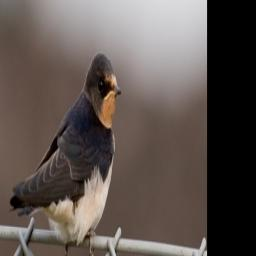Swallow: (9, 49, 122, 256)
